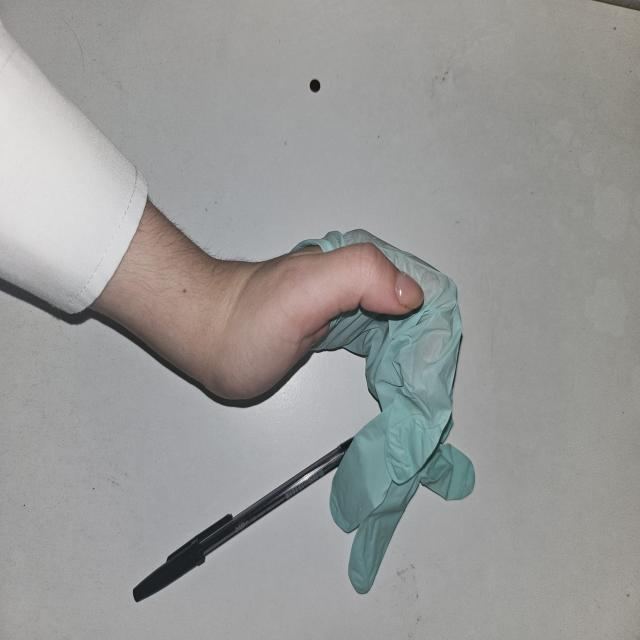glove_partial: (214, 229, 476, 596)
